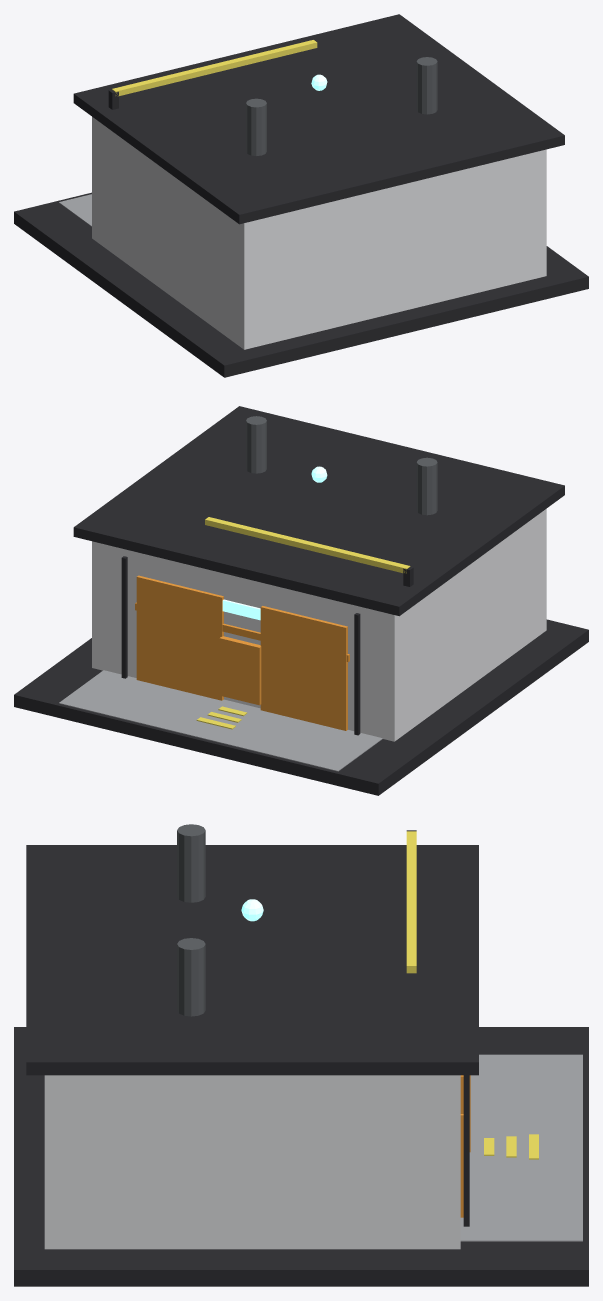
The model's file is SM_Hero_Workshop.glb.
3 views of the same model, one above another, from view 1: azimuth 30°, elevation 25°; view 2: azimuth 150°, elevation 25°; view 3: azimuth 270°, elevation 25° (orthographic). The views are drawn at different scales.
Parts seen in each view (by area): view 1: SM_Hero_Workshop; view 2: SM_Hero_Workshop; view 3: SM_Hero_Workshop.
Boxes of the visible parts, x1=… form: SM_Hero_Workshop: x1=14, y1=14, x2=588, y2=377; SM_Hero_Workshop: x1=14, y1=406, x2=588, y2=795; SM_Hero_Workshop: x1=14, y1=824, x2=588, y2=1286.
Size of the model in its own units: 5.64 by 3.01 by 5.64.
